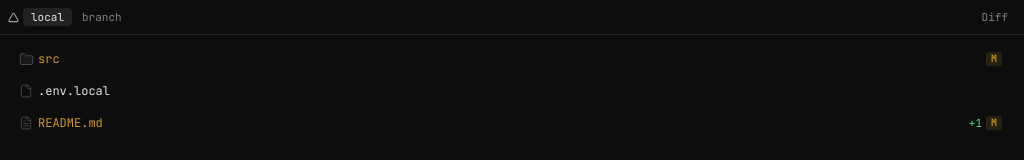
Test: FileTreeSidebar › single scope selector — always visible in the Files header › toggling diff mode carries the current scope across in both directions instead of resetting it
Expected: the text "README.md" is shown, x1=38 y1=115 x2=103 y2=131
Select "branch" while browsing the plain tree.
Click the button "branch" at (102, 17), box x1=74 y1=8 x2=130 y2=26
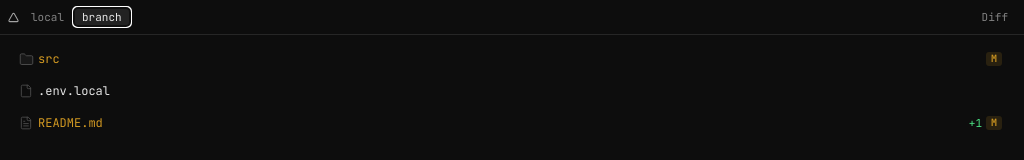
Click the button with aria-label "Diff view off" at (995, 17), box x1=974 y1=6 x2=1016 y2=28
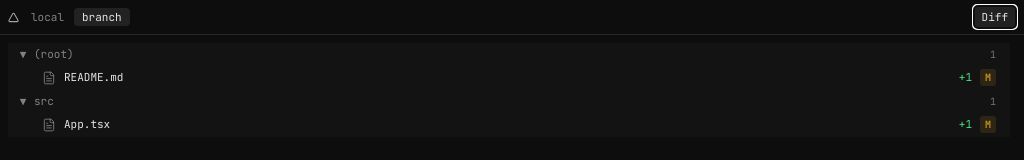
Expected: the button "branch" is shown, x1=74 y1=8 x2=130 y2=26
Expected: the button with aria-label "Diff view on" is shown
Toggle diff mode OFF — the plain tree must still show "branch".
Click the button with aria-label "Diff view on" at (995, 17), box x1=974 y1=6 x2=1016 y2=28
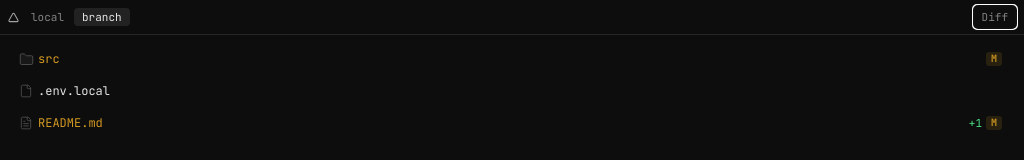
Expected: the button "branch" is shown, x1=74 y1=8 x2=130 y2=26
Expected: the button with aria-label "Diff view off" is shown, x1=974 y1=6 x2=1016 y2=28
